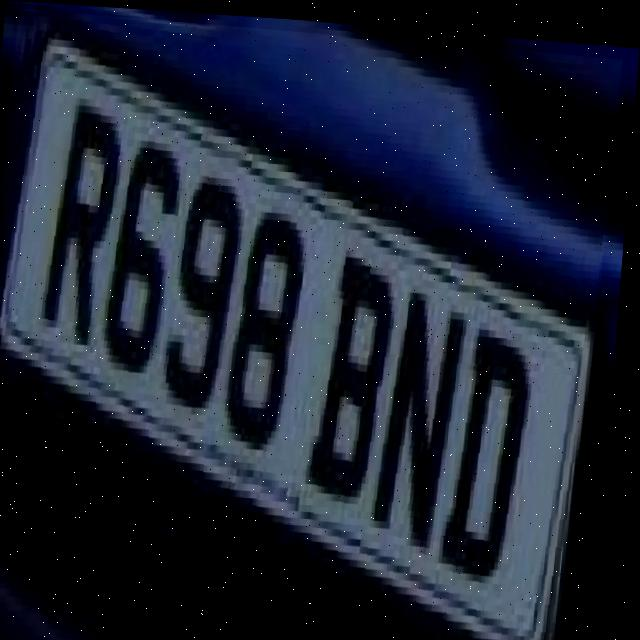LicensePlate: (0, 7, 623, 640)
